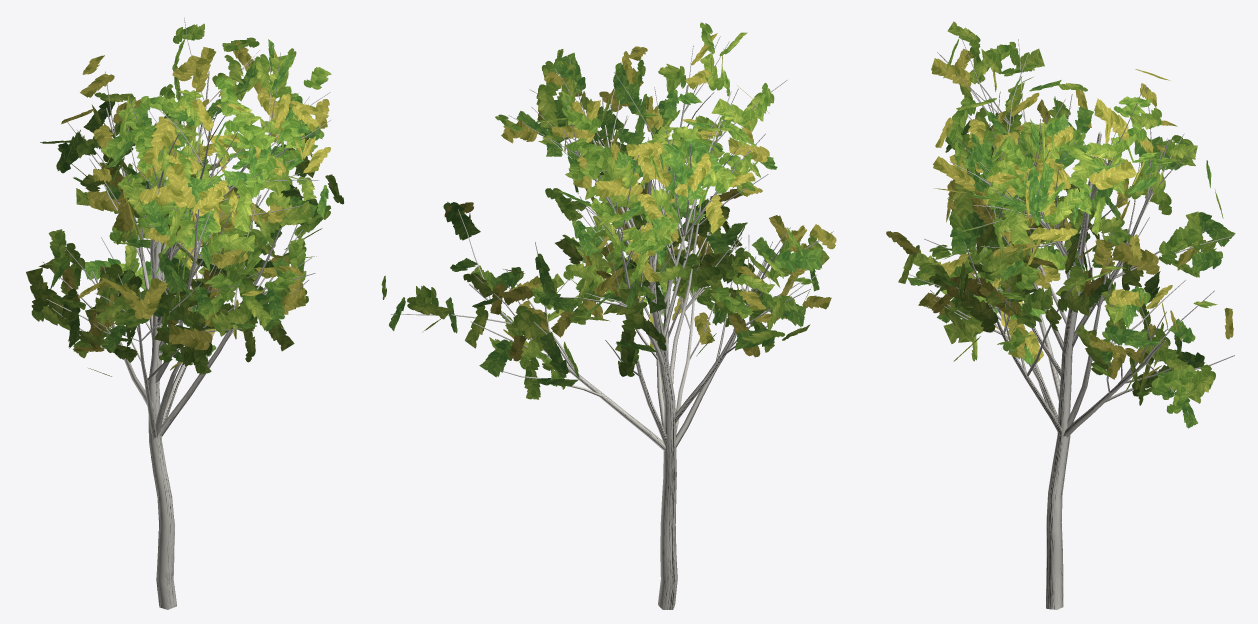
File: hero_birch_b_lod1.obj
3 views of the same model, side by side, from view 1: azimuth 30°, elevation 25°; view 2: azimuth 150°, elevation 25°; view 3: azimuth 270°, elevation 25° (orthographic). The views are drawn at different scales.
Parts seen in each view (by area): view 1: hero_birch_b_lod1; view 2: hero_birch_b_lod1; view 3: hero_birch_b_lod1.
Part boxes in pixels (x1,y1,x2,y2): hero_birch_b_lod1: [26, 17, 343, 609]; hero_birch_b_lod1: [381, 22, 836, 609]; hero_birch_b_lod1: [886, 21, 1235, 609].
Size of the model in its own units: 10.06 by 14.53 by 8.47.
Materials: 2 (2 with a texture image).
